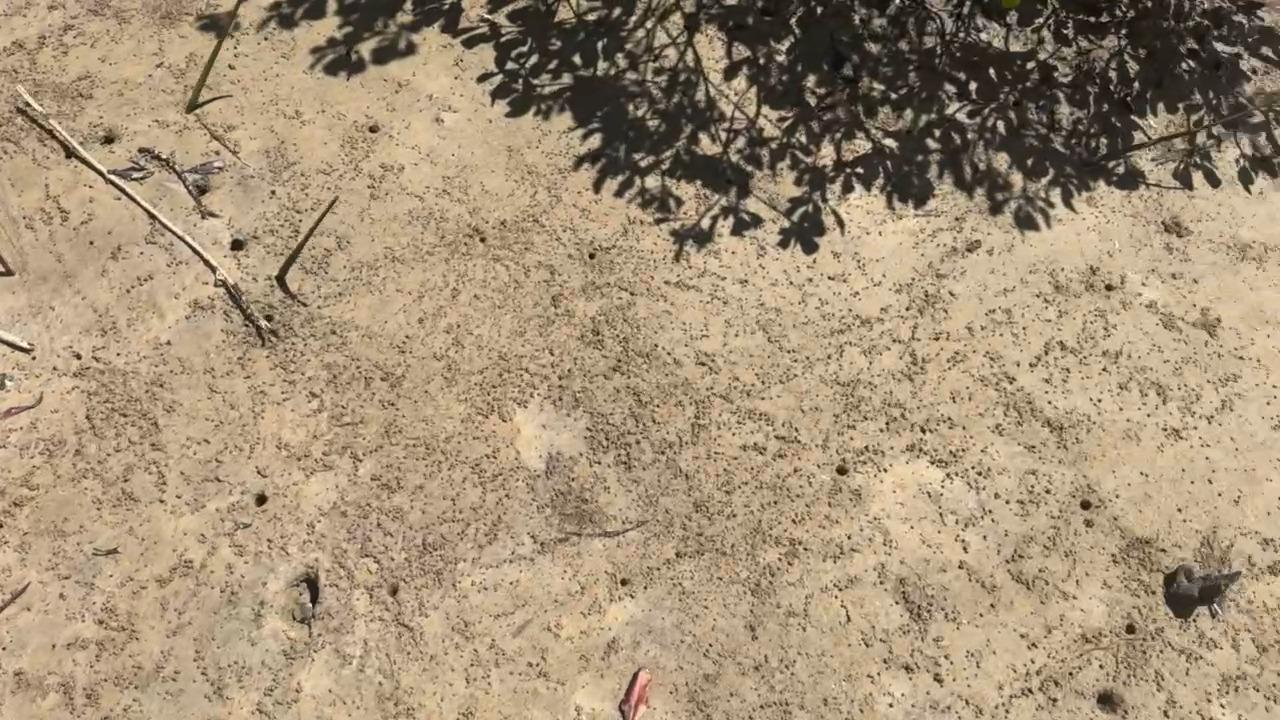Tree: (185, 0, 242, 115), (276, 195, 339, 280), (0, 252, 17, 275)
